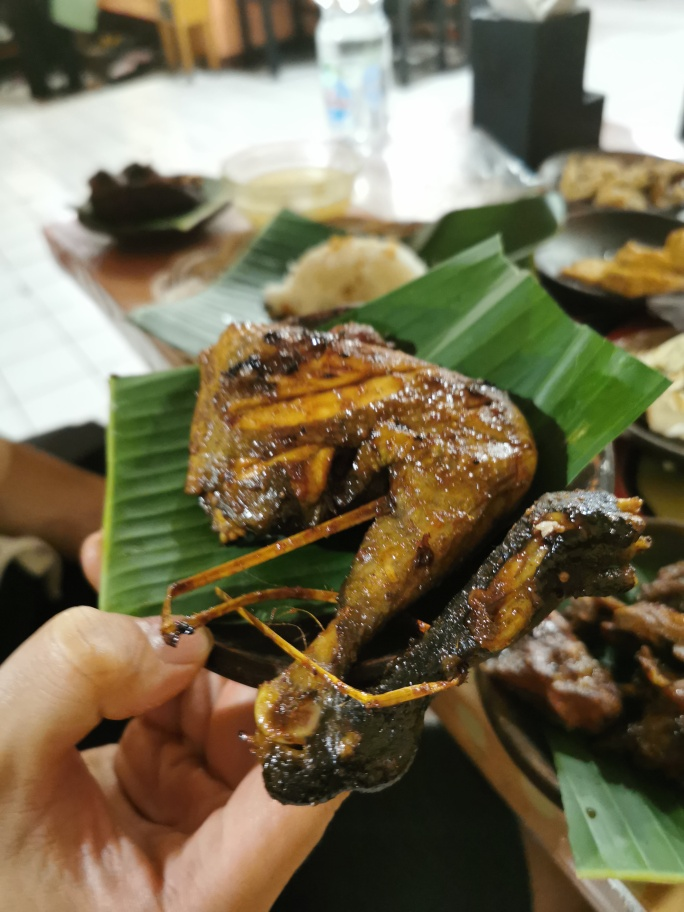ayam bakar: (188, 316, 650, 806)
